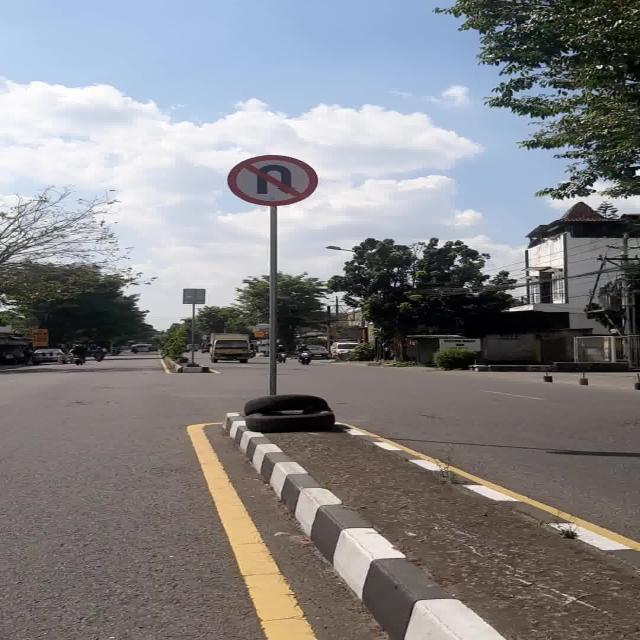Dilarang Putar Balik: (226, 154, 320, 206)
